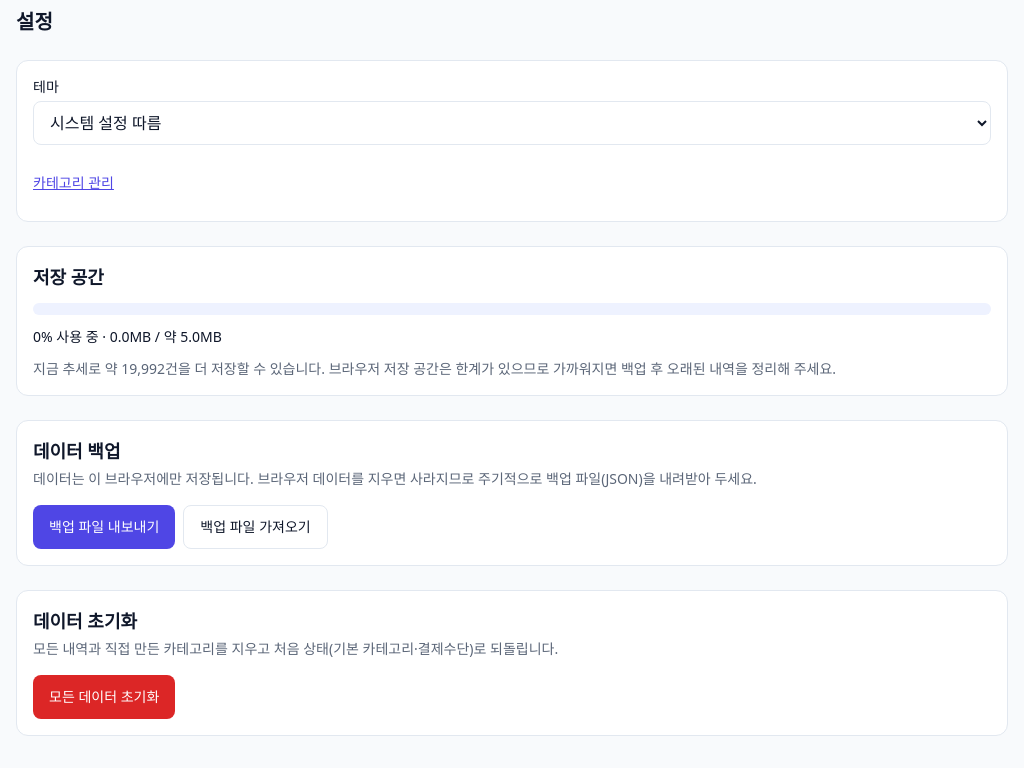
Test: 설정 화면 실패 › 초기화 저장에 실패하면 오류 알림을 보여 준다
(page scrolled)
Expected: the heading "설정" is shown, x1=16 y1=8 x2=53 y2=35
Step 1. Click the button "모든 데이터 초기화" → click(104, 697), box x1=33 y1=675 x2=175 y2=719
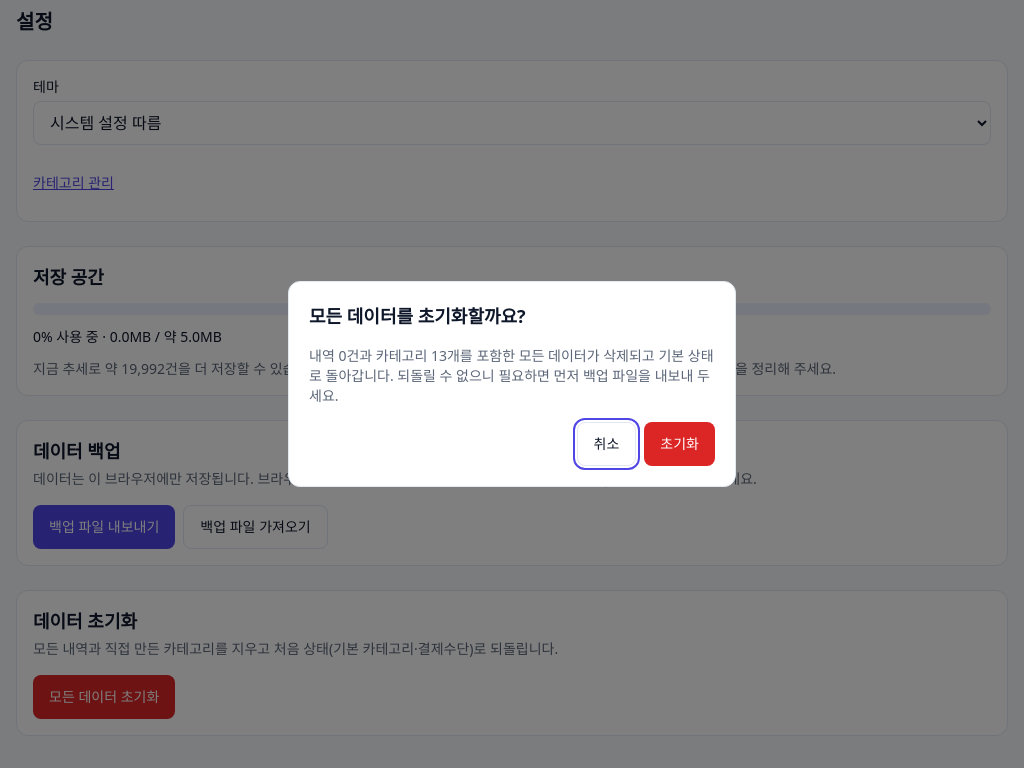
Step 2. Click the button "초기화" → click(680, 444), box x1=644 y1=422 x2=715 y2=466
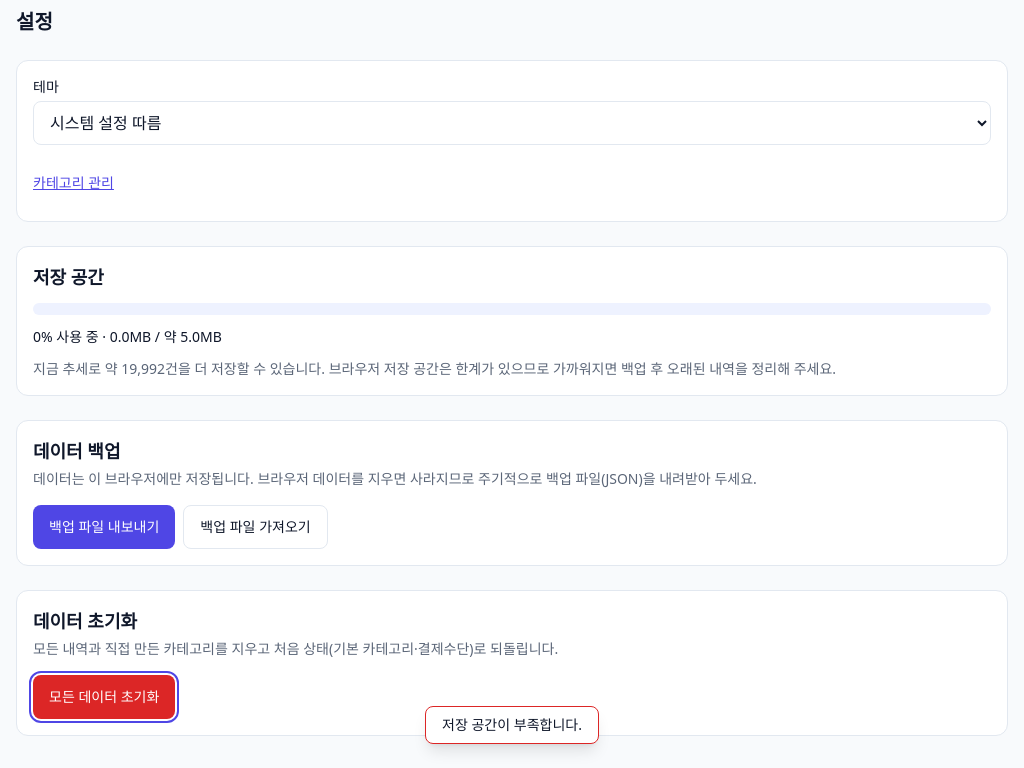
Expected: the message reads "저장 공간이 부족합니다.", x1=442 y1=715 x2=582 y2=734
